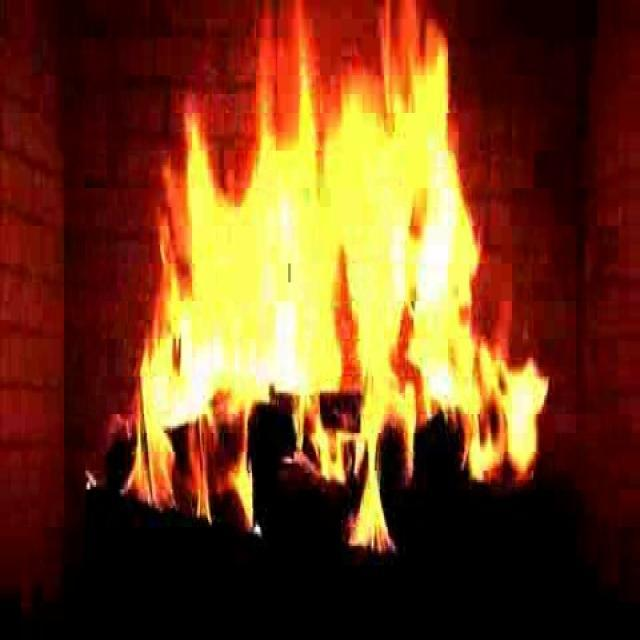Fire: (160, 31, 498, 520)
